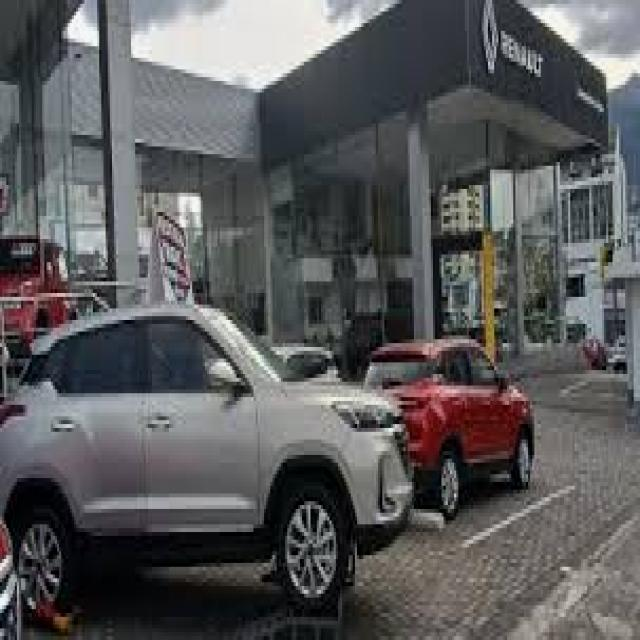SUV: (2, 297, 418, 615), (363, 339, 534, 519)
